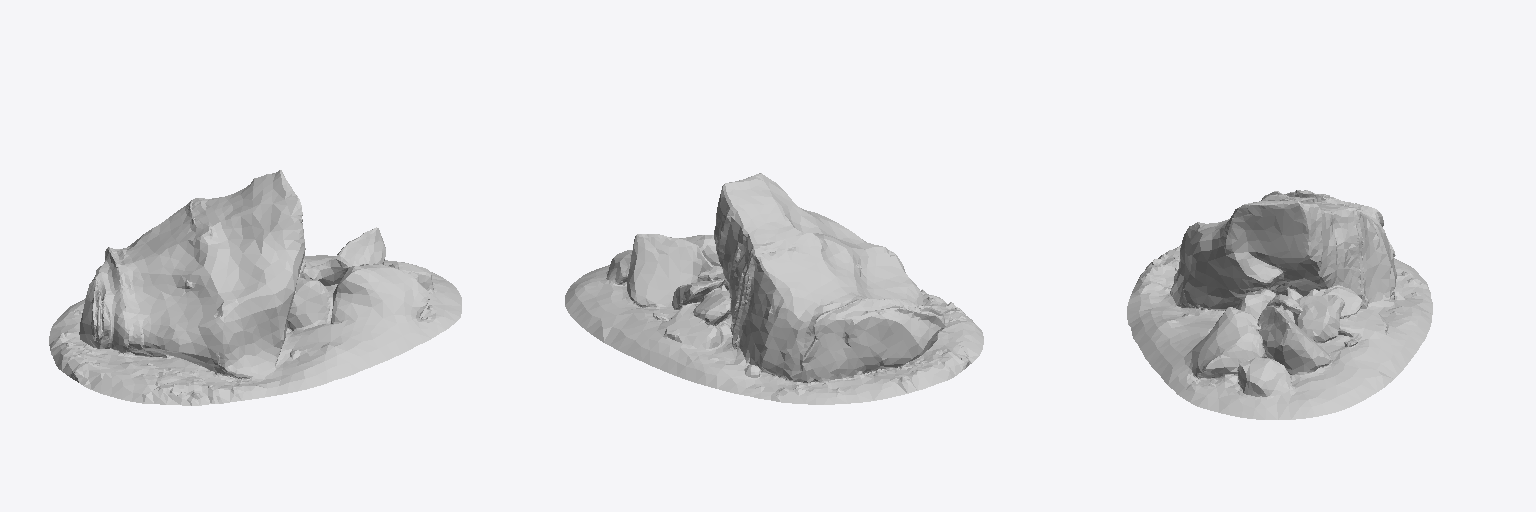
Rendered from rock.obj.
3 views of the same model, side by side, from view 1: azimuth 30°, elevation 25°; view 2: azimuth 150°, elevation 25°; view 3: azimuth 270°, elevation 25° (orthographic).
Parts seen in each view (by area): view 1: Aset_rock_assembly_L_tfkbeifda_LOD0; view 2: Aset_rock_assembly_L_tfkbeifda_LOD0; view 3: Aset_rock_assembly_L_tfkbeifda_LOD0.
Boxes of the visible parts, x1,y1,x2,y2 form: Aset_rock_assembly_L_tfkbeifda_LOD0: [49, 170, 461, 405]; Aset_rock_assembly_L_tfkbeifda_LOD0: [565, 173, 983, 404]; Aset_rock_assembly_L_tfkbeifda_LOD0: [1127, 190, 1432, 419].
Size of the model in its own units: 6.55 by 2.32 by 4.55.